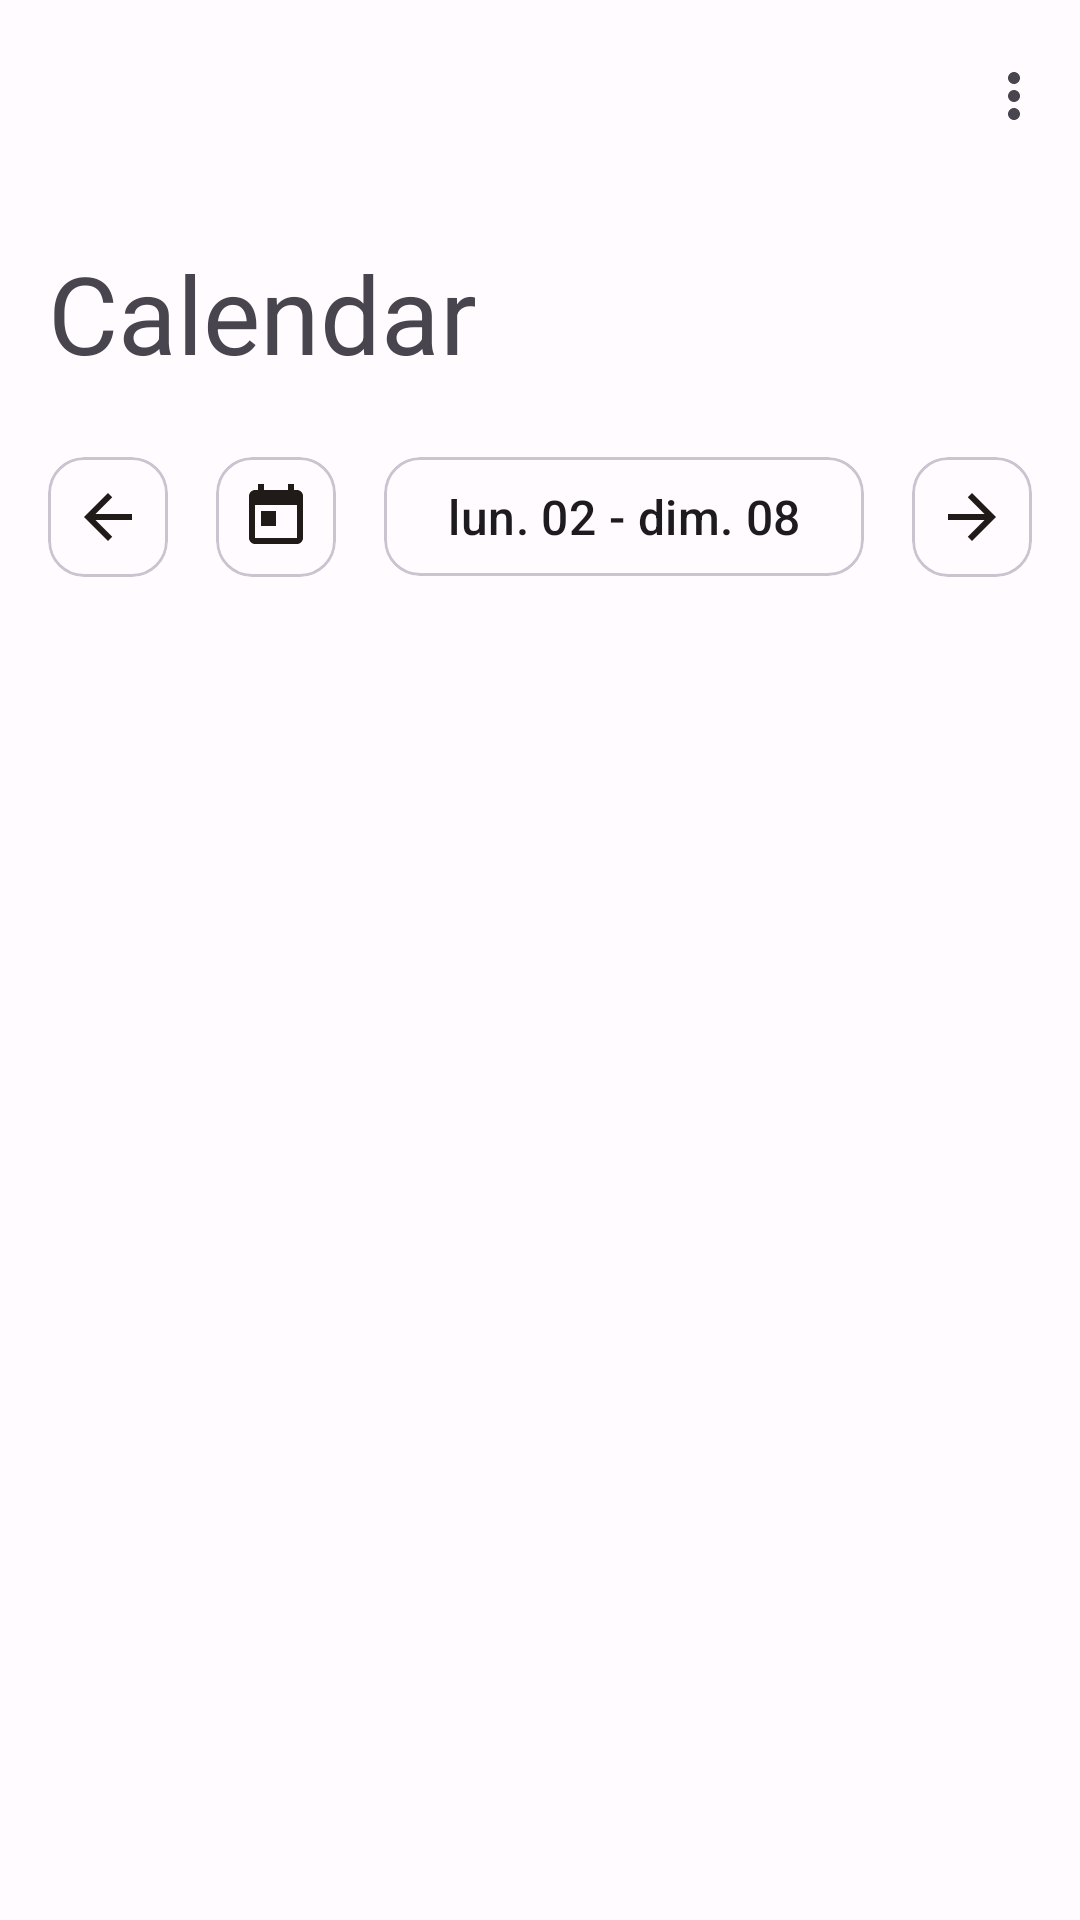

Icon bounding boxes for this 1080x1920 phone screenshot, format (x1, y1, x2, y2):
back: (84, 493, 132, 541)
forward: (948, 493, 996, 541)
today: (249, 484, 303, 544)
